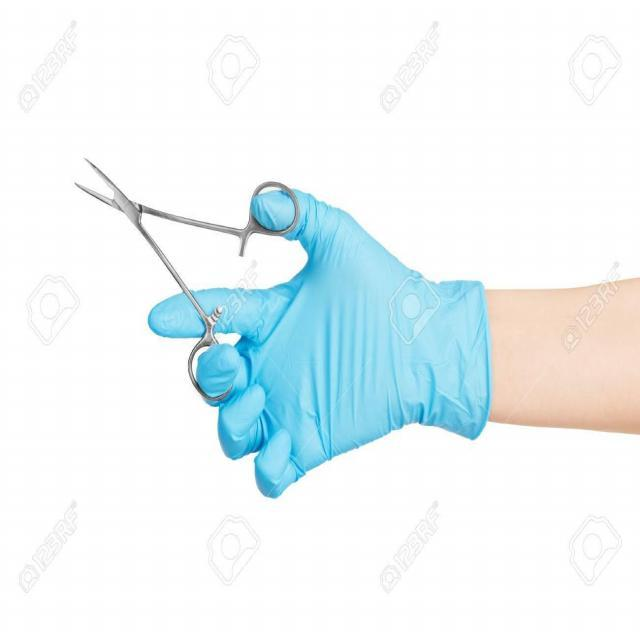scissors: (70, 156, 301, 404)
